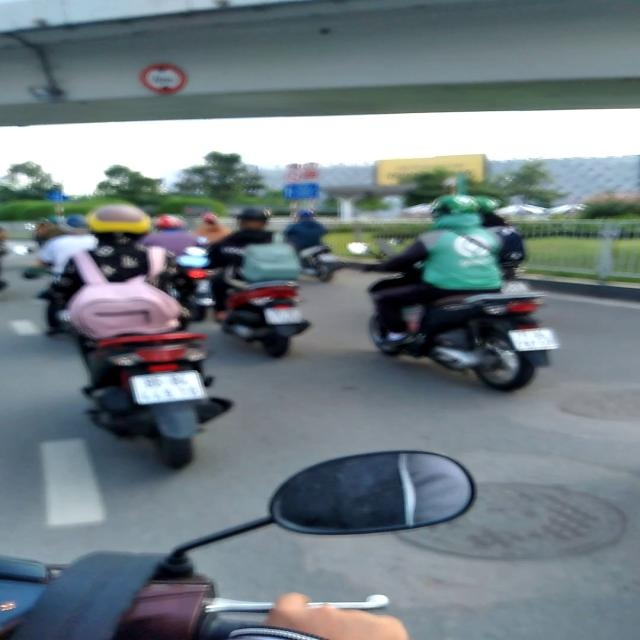bien_cam: (139, 63, 186, 94)
